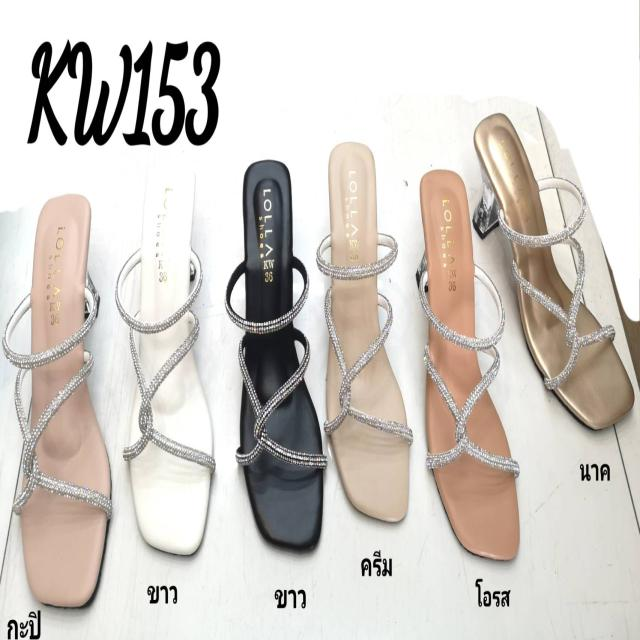black: (239, 159, 325, 544)
cream: (326, 139, 412, 520)
kapi: (19, 193, 111, 608)
nak: (475, 111, 632, 433)
orot: (418, 167, 523, 559)
white: (130, 159, 210, 558)
